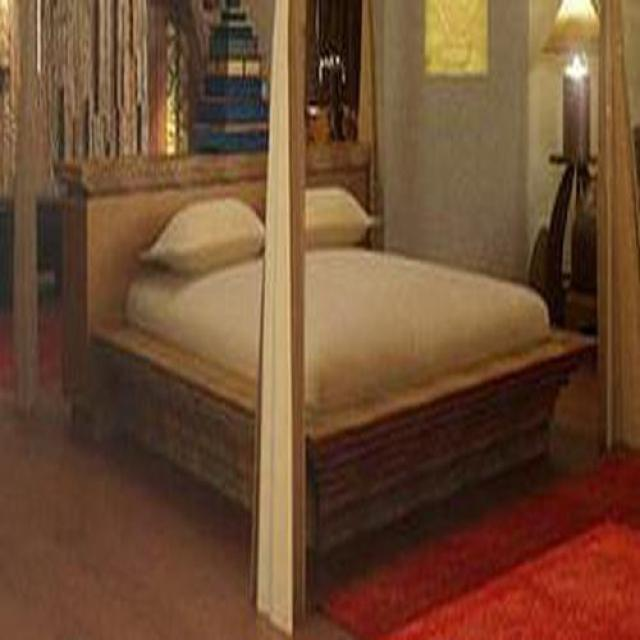bed: (305, 145, 593, 562), (51, 145, 269, 509)
